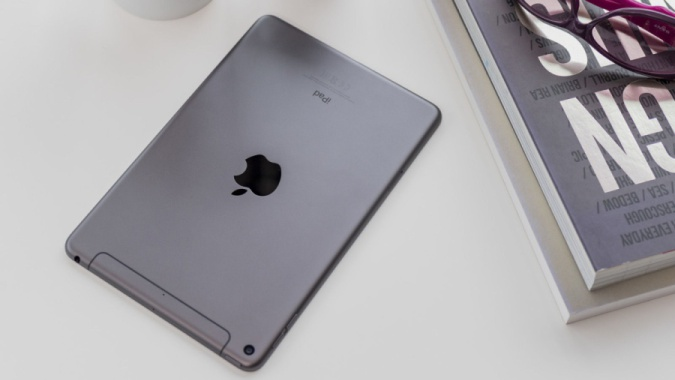apple: (225, 147, 300, 208)
